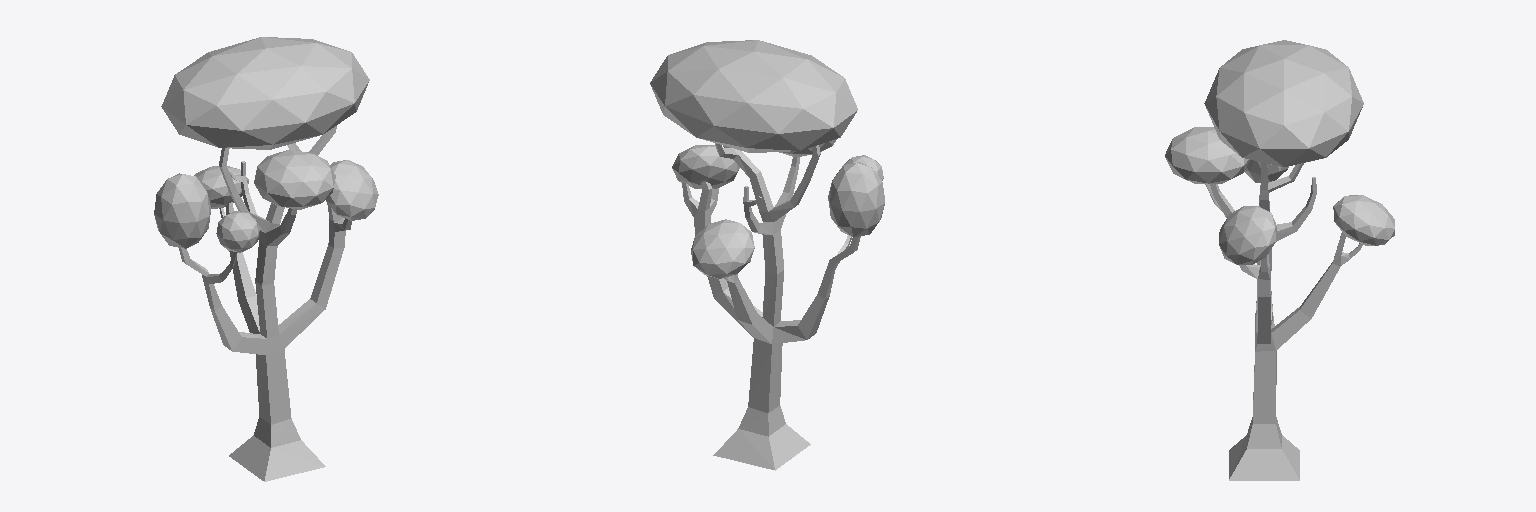
File: arbol_1.obj
The picture shows the model from 3 angles: view 1: azimuth 30°, elevation 25°; view 2: azimuth 150°, elevation 25°; view 3: azimuth 270°, elevation 25°; orthographic projection.
Visible parts, largest first — view 1: skyFBXASC032tree; view 2: skyFBXASC032tree; view 3: skyFBXASC032tree.
Boxes of the visible parts, x1,y1,x2,y2 form: skyFBXASC032tree: [154, 37, 378, 481]; skyFBXASC032tree: [650, 40, 884, 470]; skyFBXASC032tree: [1165, 40, 1394, 480].
Size of the model in its own units: 2.07 by 3.82 by 1.97.